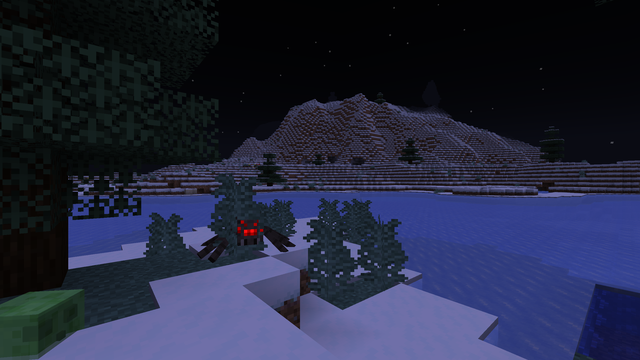araignees: (206, 207, 291, 265)
slimes: (2, 283, 74, 358)
